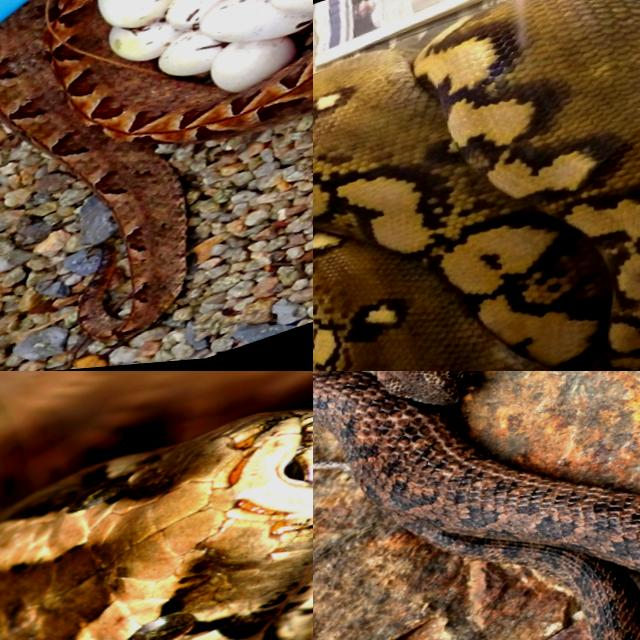Calloselasma rhodostoma: (0, 0, 312, 340)
Malayopython reticulatus: (313, 0, 639, 370)
Ovophis monticola: (313, 371, 639, 639)
Python bivittatus: (0, 410, 312, 639)
